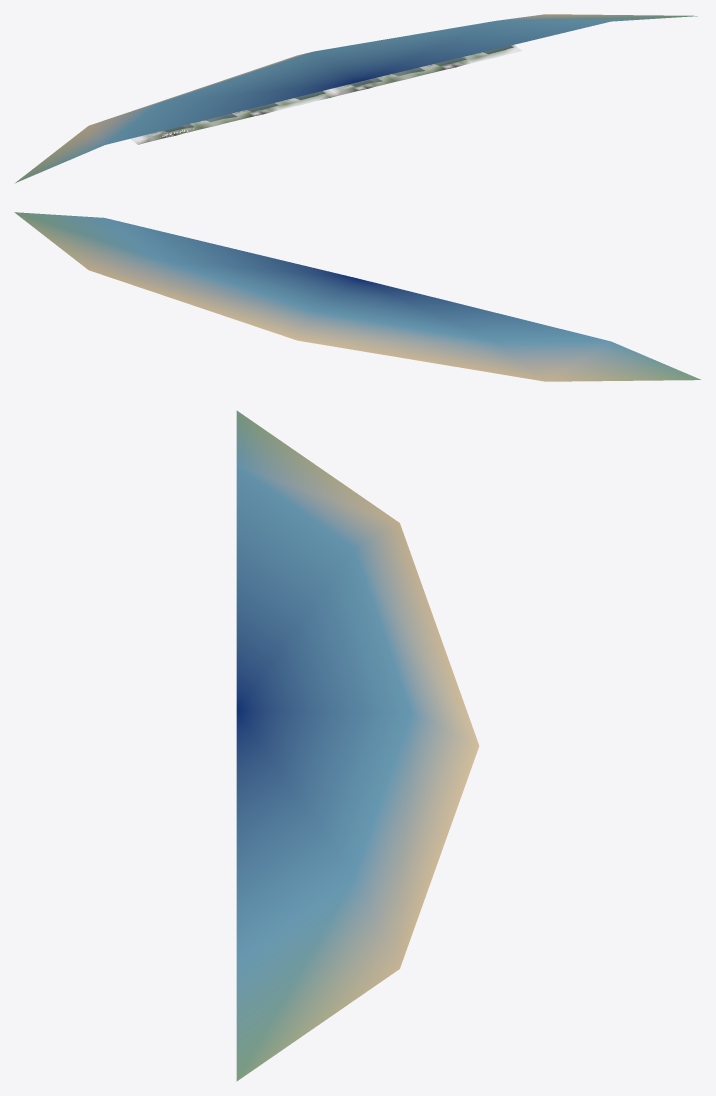
File: Forest_10.fbx
3 renders of one model, top to bottom at view 1: azimuth 30°, elevation 25°; view 2: azimuth 150°, elevation 25°; view 3: azimuth 270°, elevation 25°, orthographic. The views are drawn at different scales.
Visible parts, largest first — view 1: Light_01, Bg_01_A1, Cloud_01; view 2: Light_01; view 3: Light_01.
Part boxes in pixels (x1,y1,x2,y2): Light_01: (14, 14, 697, 183); Bg_01_A1: (131, 45, 521, 144); Cloud_01: (163, 45, 513, 132); Light_01: (14, 212, 700, 381); Light_01: (236, 410, 479, 1081).
Bounding box in the file's own units: 19474 × 478 × 2977.
